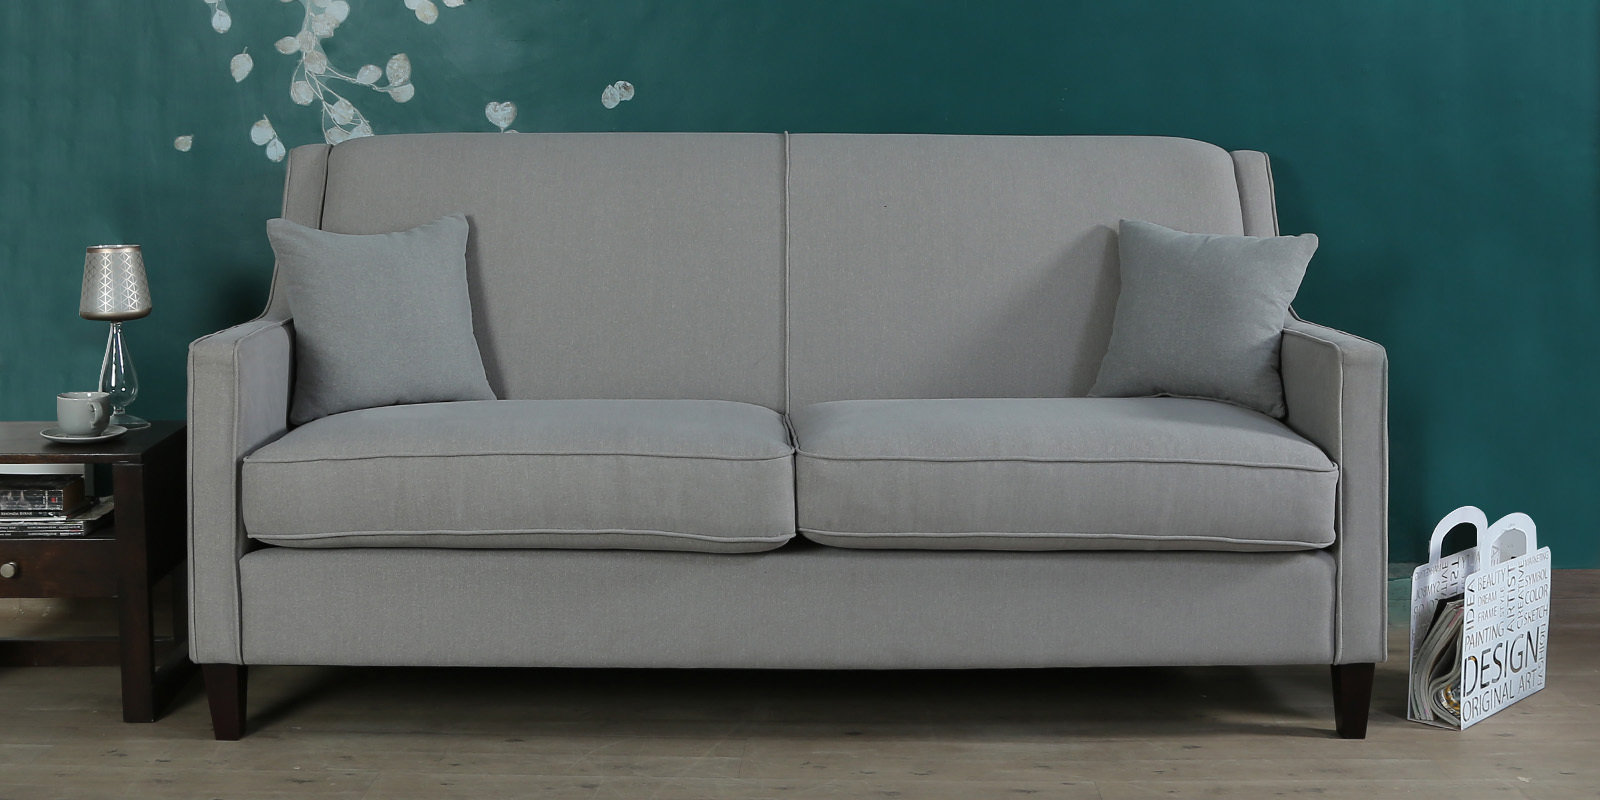Oscar Three Seater Sofa in Ash Grey Colour by CasaCraft: (184, 129, 1393, 742)
